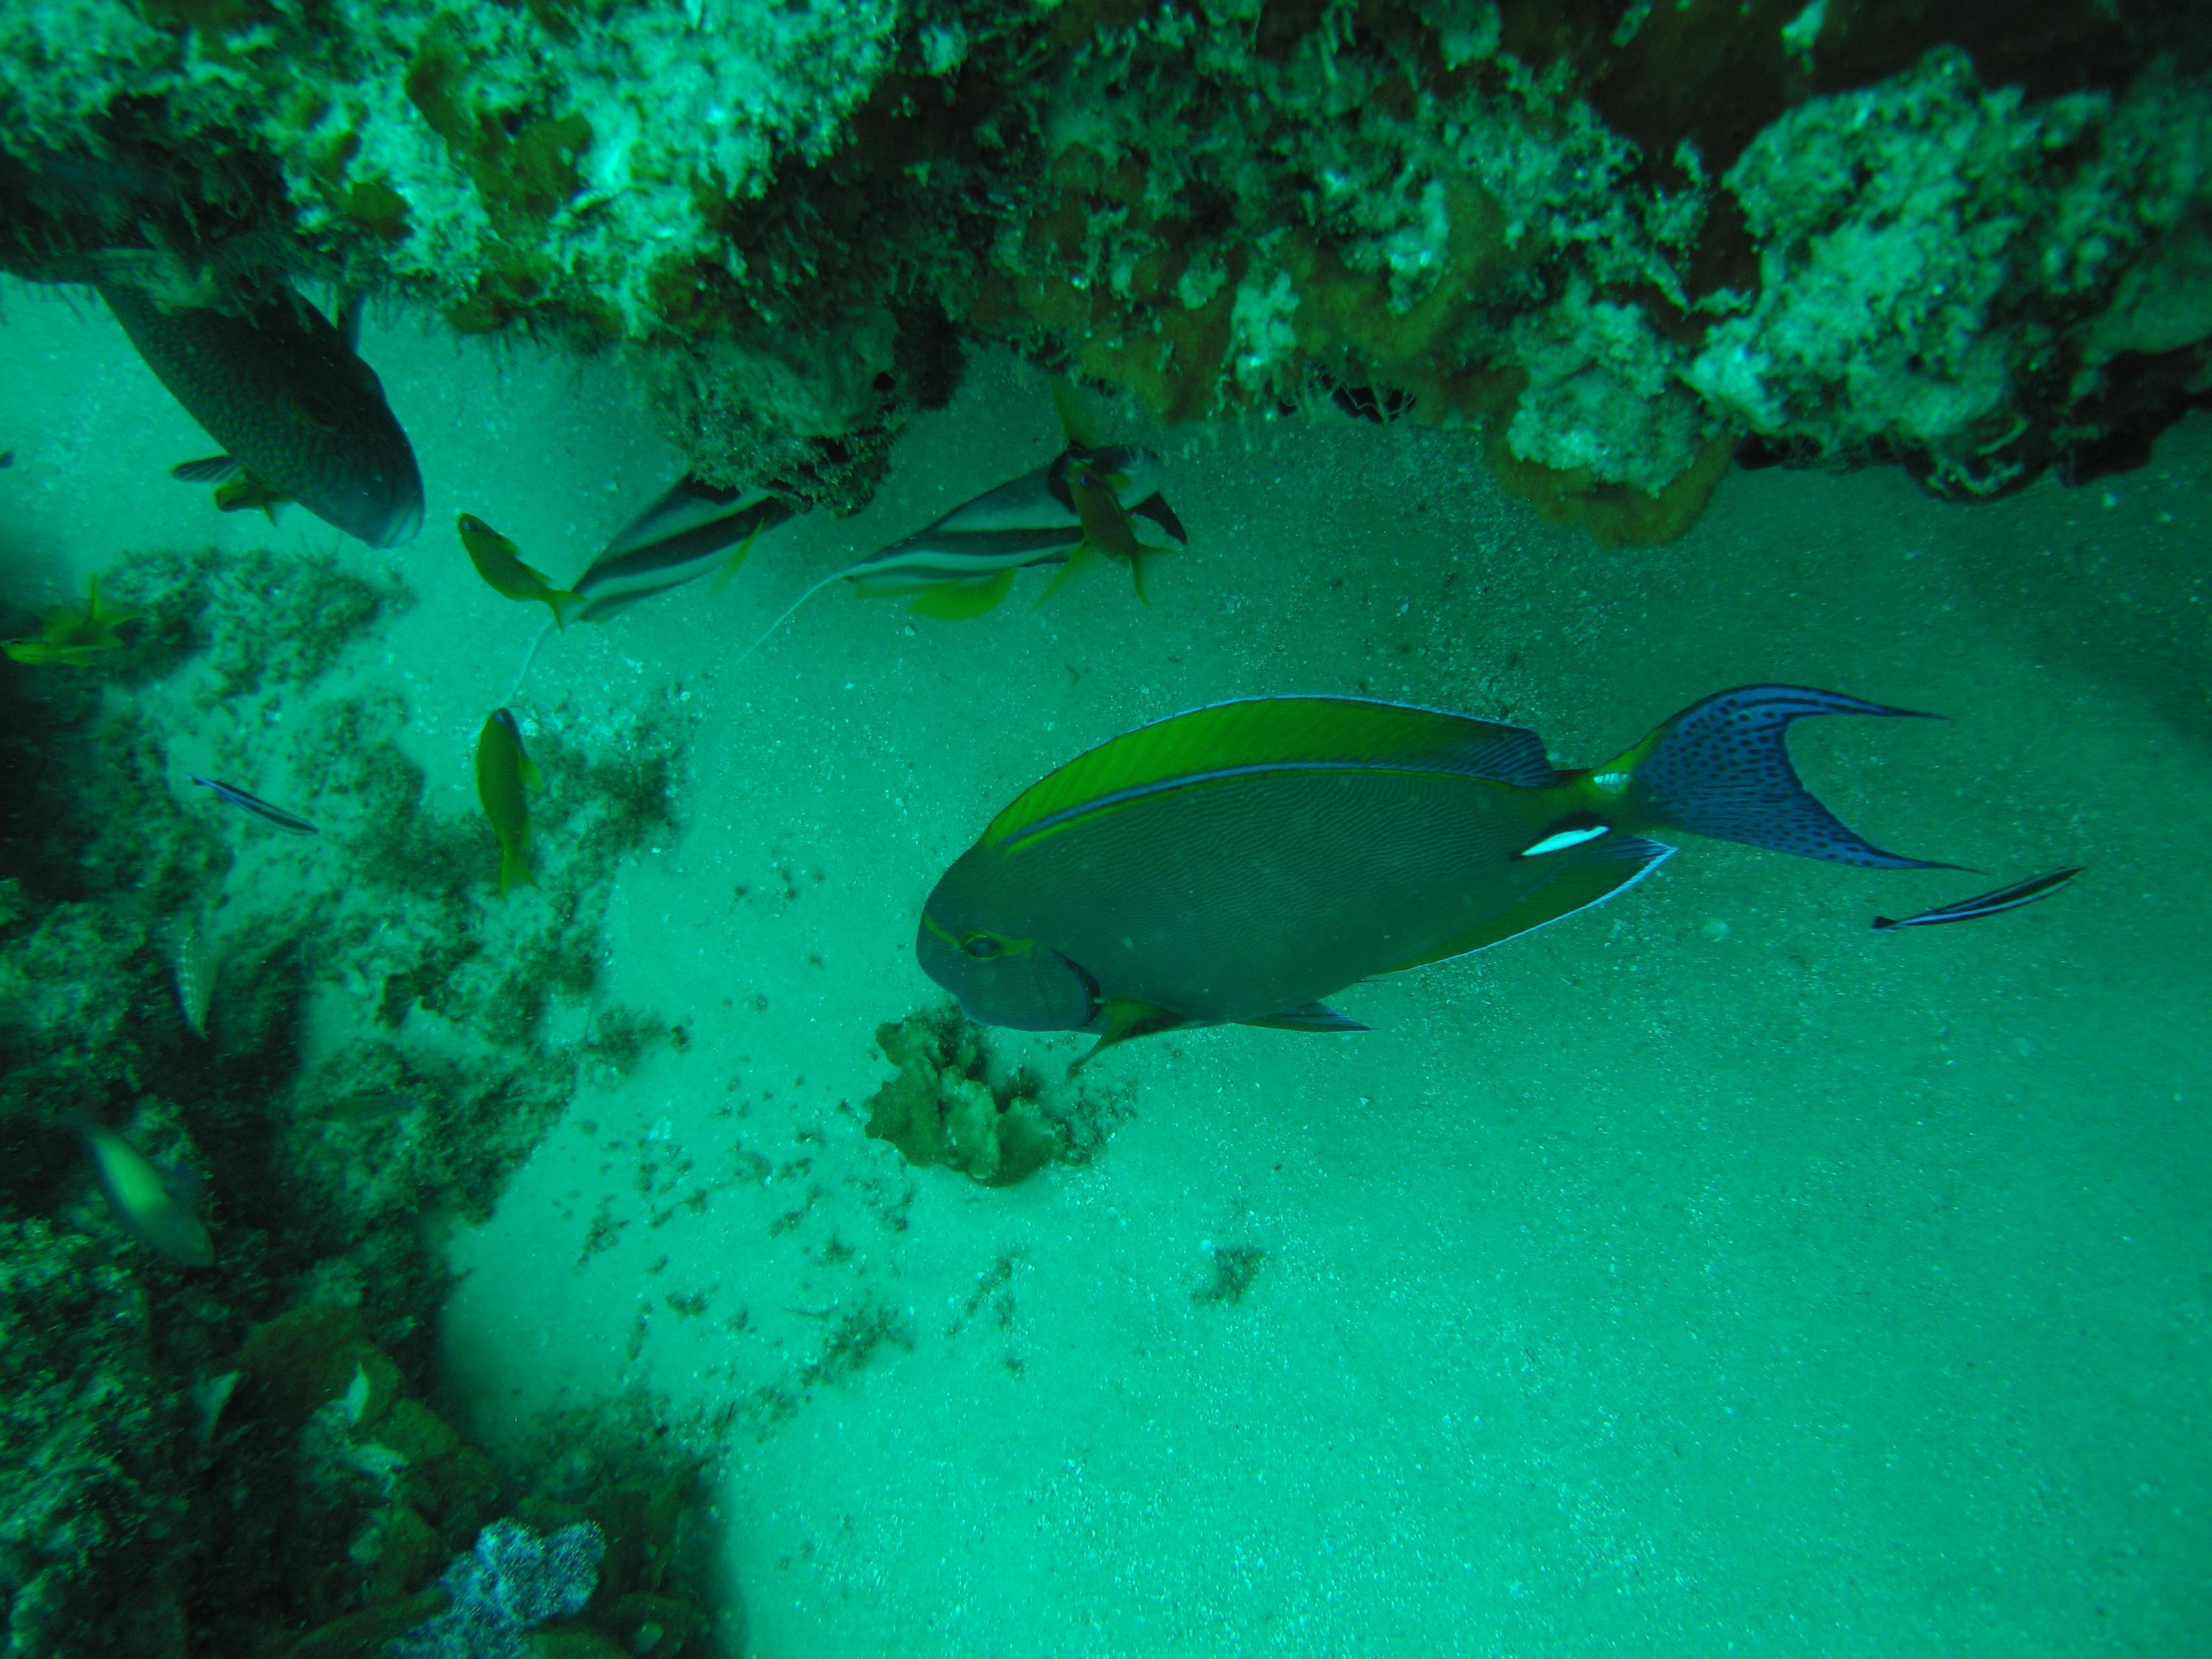Acanthurus dussumieri: (880, 627, 1994, 1101)
